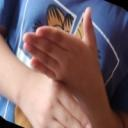hand: (21, 6, 104, 92), (22, 71, 96, 128)
